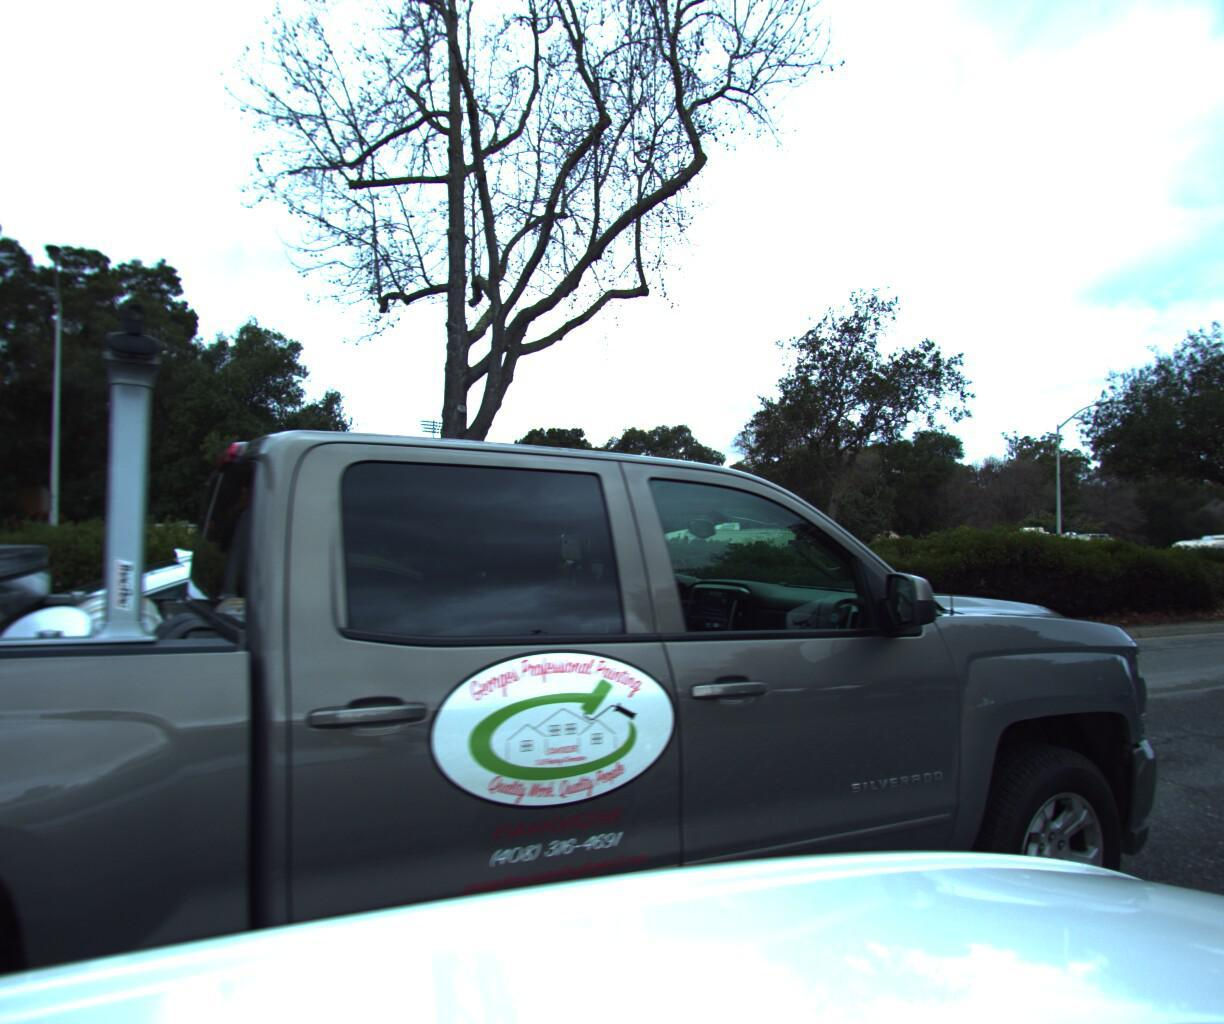other_vehicle: (78, 511, 325, 624), (619, 513, 854, 608), (952, 517, 1126, 592), (1149, 525, 1224, 588)
